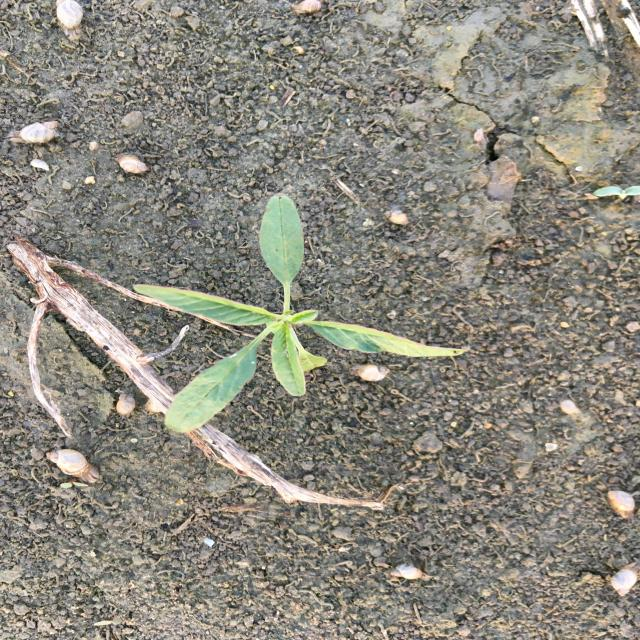Waterhemp: (131, 193, 468, 436)
